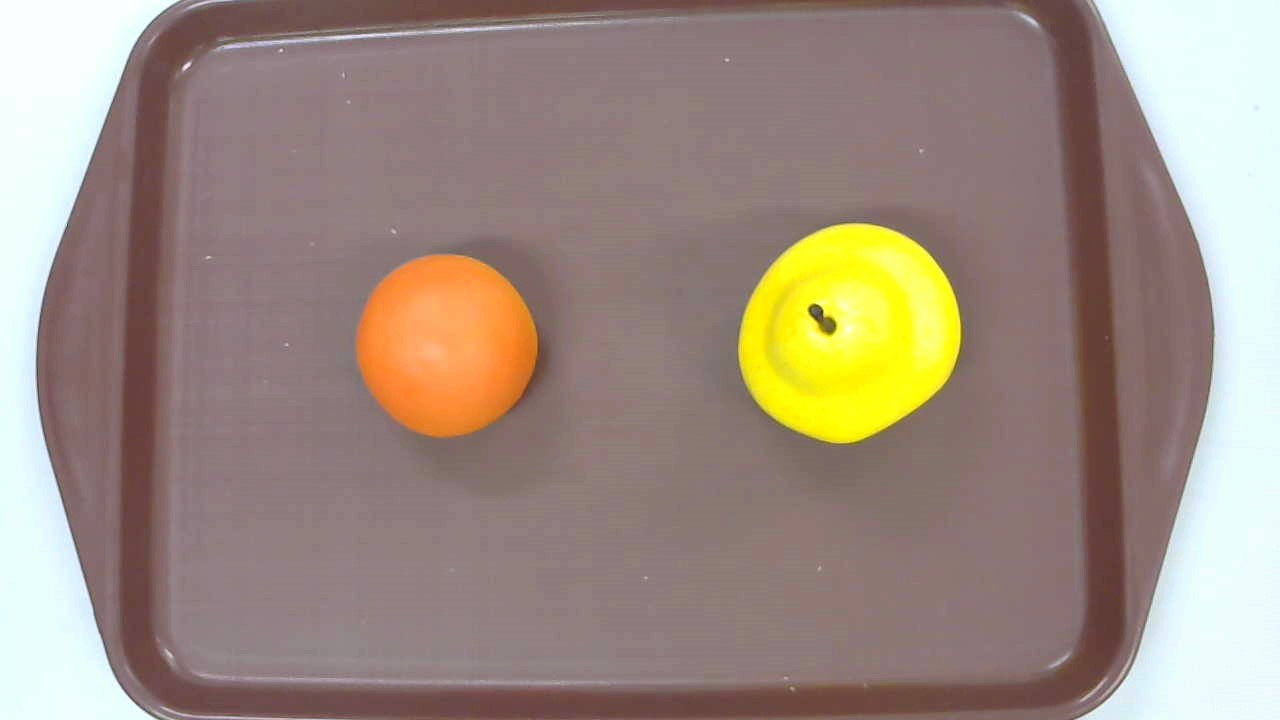bun: (355, 253, 539, 441)
yellow pear: (738, 222, 961, 444)
